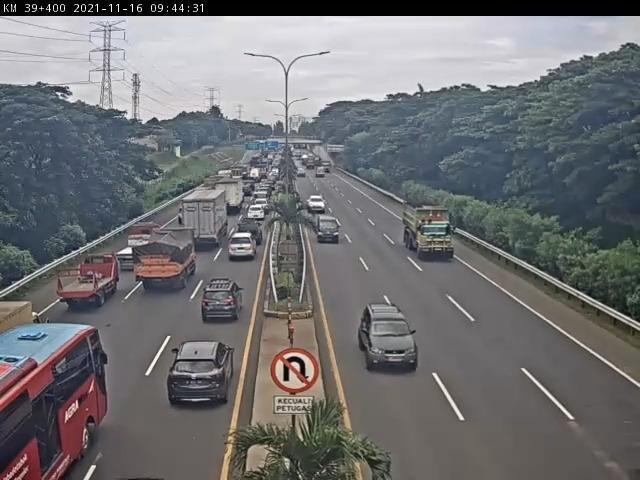car: (170, 343, 237, 407), (361, 307, 422, 373), (201, 279, 245, 323), (228, 238, 258, 265), (236, 224, 263, 251), (317, 216, 343, 243), (248, 206, 267, 221)
truck: (135, 228, 200, 292), (56, 255, 118, 312), (406, 205, 458, 261), (180, 192, 227, 251), (112, 226, 163, 273), (213, 178, 245, 214)
